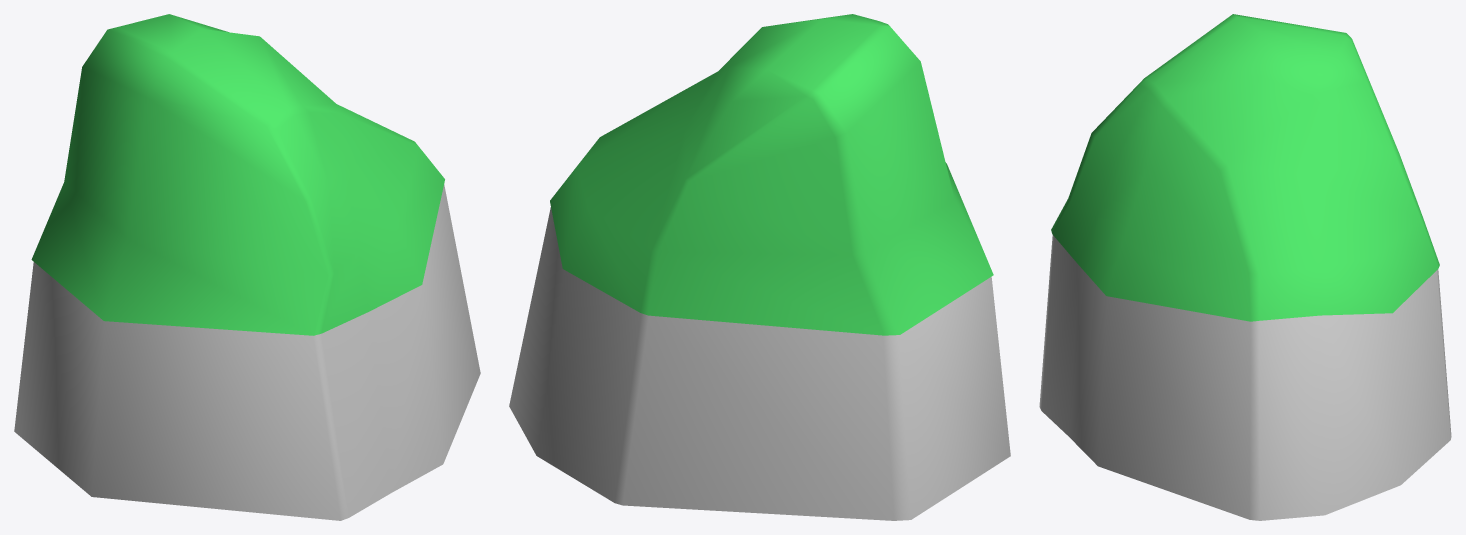
File: RockLittle_B_Moss.fbx
3 renders of one model, left to right at view 1: azimuth 30°, elevation 25°; view 2: azimuth 150°, elevation 25°; view 3: azimuth 270°, elevation 25°, orthographic. The views are drawn at different scales.
Parts seen in each view (by area): view 1: RockLittle_B_Moss_LOD0; view 2: RockLittle_B_Moss_LOD0; view 3: RockLittle_B_Moss_LOD0.
Part boxes in pixels (left/top/right/bottom): RockLittle_B_Moss_LOD0: left=14, top=14, right=480, bottom=520; RockLittle_B_Moss_LOD0: left=509, top=14, right=1010, bottom=520; RockLittle_B_Moss_LOD0: left=1039, top=14, right=1451, bottom=520.
Size of what is drawn, in the model's own units: 1.47 by 1.36 by 1.38.
